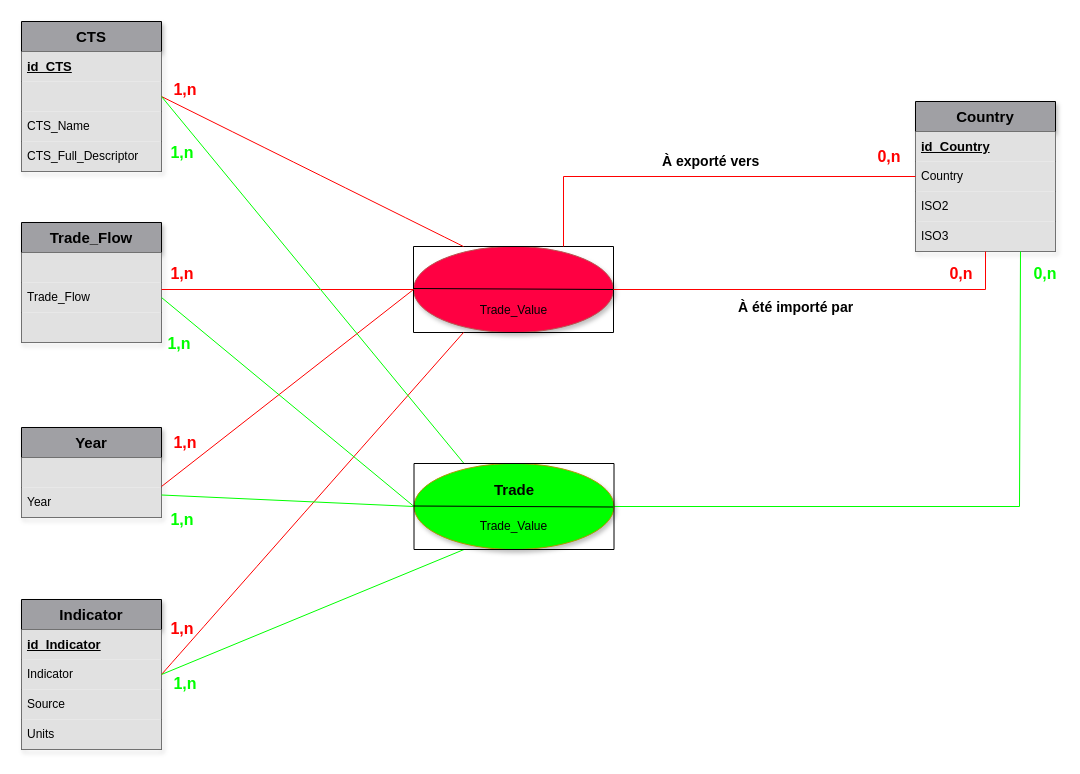
Image size: 1080x774. Some labels were removed from this diagram. The centre of each missing label's shape, as x and y in pixels:
"Bilateral_Trade" goes at point 513,289.
"CTS_Code" goes at point 91,96.
"id_Trade" goes at point 91,267.
"id_Year" goes at point 91,472.
"Scale" goes at point 91,327.
